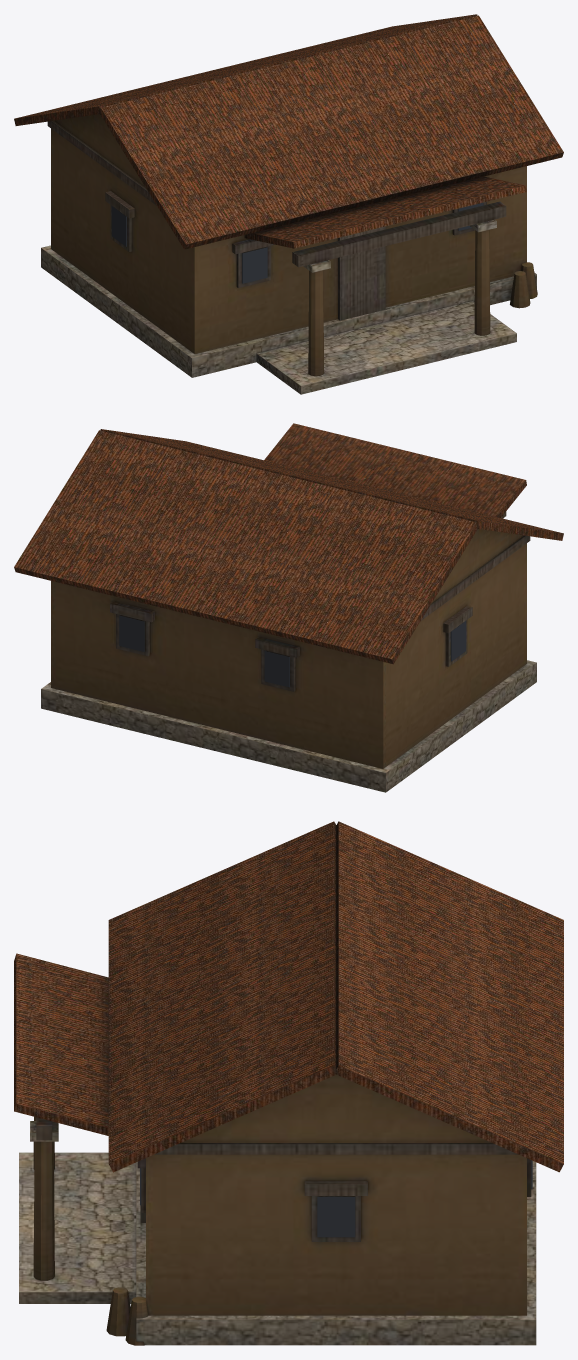
Rendered from house_ancient.glb.
3 renders of one model, top to bottom at view 1: azimuth 30°, elevation 25°; view 2: azimuth 150°, elevation 25°; view 3: azimuth 270°, elevation 25°, orthographic. The views are drawn at different scales.
Parts seen in each view (by area): view 1: house_ancient; view 2: house_ancient; view 3: house_ancient.
Part boxes in pixels (x1,y1,x2,y2): house_ancient: (14,14,563,394); house_ancient: (14,423,563,792); house_ancient: (14,821,563,1345).
Bounding box in the file's own units: 9.1 × 5.05 × 8.66.
Materials: 2 (1 with a texture image).
